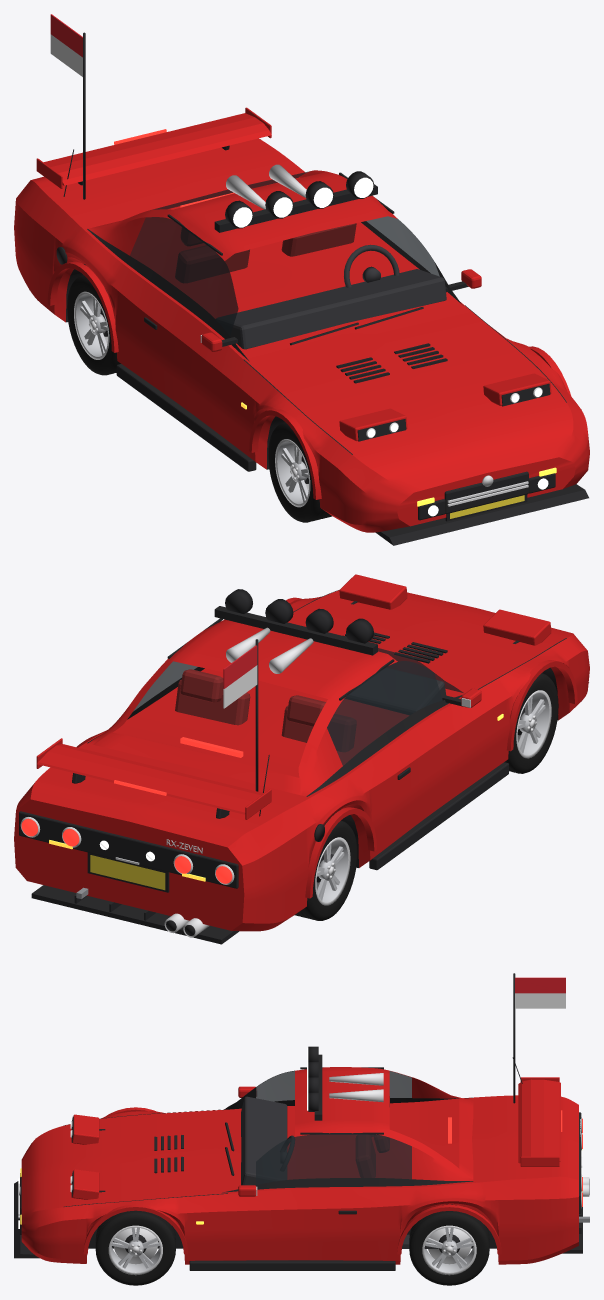
3 renders of one model, top to bottom at view 1: azimuth 30°, elevation 25°; view 2: azimuth 150°, elevation 25°; view 3: azimuth 270°, elevation 25°, orthographic. The views are drawn at different scales.
Visible parts, largest first — view 1: hood, nose, tub, deck_lid, door_R, cabin_roof, dash, cabin_glass, quarter_R, spoiler, fender_R, wheel_FR (+15 smaller); view 2: tail, cabin_roof, tub, hood, door_R, cabin_glass, quarter_R, spoiler, fender_R, tail_garnish, deck_lid, wheel_RR (+26 smaller); view 3: hood, door_L, tub, cabin_roof, cabin_glass, quarter_L, fender_L, nose, wheel_FL, wheel_RL, tail, deck_lid (+15 smaller).
Part boxes in pixels (<box>): hood: <box>244,305,566,454</box>; nose: <box>336,403,589,532</box>; tub: <box>88,217,464,359</box>; deck_lid: <box>44,139,305,233</box>; door_R: <box>122,276,243,440</box>; cabin_roof: <box>88,170,397,260</box>; dash: <box>216,269,446,349</box>; cabin_glass: <box>130,171,439,335</box>; quarter_R: <box>27,192,138,365</box>; spoiler: <box>44,113,271,185</box>; fender_R: <box>227,360,352,524</box>; wheel_FR: <box>268,422,332,522</box>; tail: <box>14,773,276,931</box>; cabin_roof: <box>88,619,397,796</box>; tub: <box>88,668,461,795</box>; hood: <box>288,590,565,695</box>; door_R: <box>362,704,481,854</box>; cabin_glass: <box>133,648,463,765</box>; quarter_R: <box>260,766,378,930</box>; spoiler: <box>37,744,264,814</box>; fender_R: <box>472,638,583,778</box>; tail_garnish: <box>19,811,238,888</box>; deck_lid: <box>44,741,312,825</box>; wheel_RR: <box>294,818,357,920</box>; hood: <box>63,1109,227,1206</box>; door_L: <box>228,1188,389,1260</box>; tub: <box>228,1098,467,1193</box>; cabin_roof: <box>295,1067,473,1180</box>; cabin_glass: <box>256,1071,411,1184</box>; quarter_L: <box>389,1178,542,1264</box>; fender_L: <box>63,1194,227,1264</box>; nose: <box>21,1126,63,1262</box>; wheel_FL: <box>95,1210,175,1285</box>; wheel_RL: <box>409,1204,489,1285</box>; tail: <box>543,1096,578,1260</box>; deck_lid: <box>467,1095,542,1183</box>.
Bounding box in the file's own units: 1.88 × 2 × 4.44.
